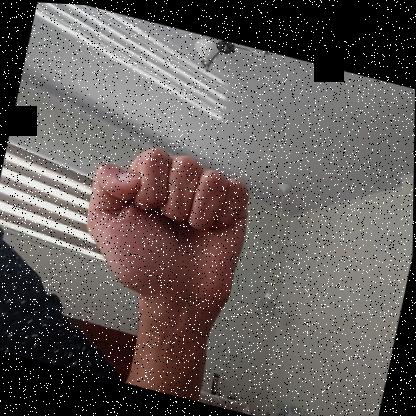A: (73, 130, 261, 313)
